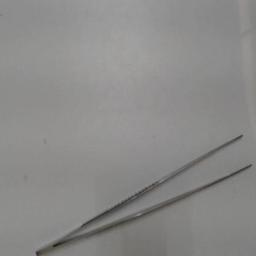DeBakey Dissector: (28, 130, 254, 254)
